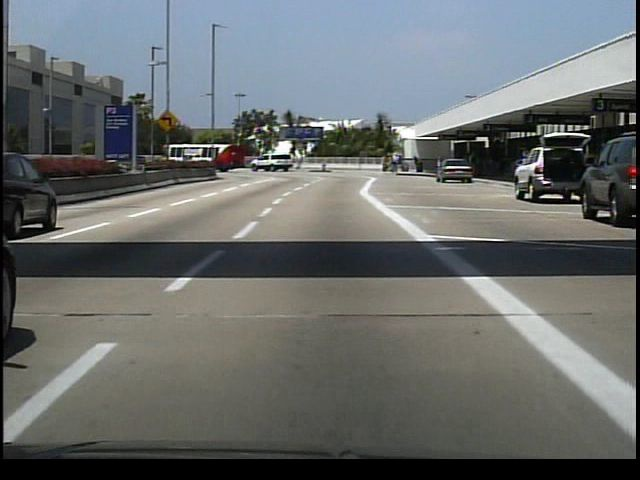person: (465, 150, 481, 180), (390, 151, 400, 177)
